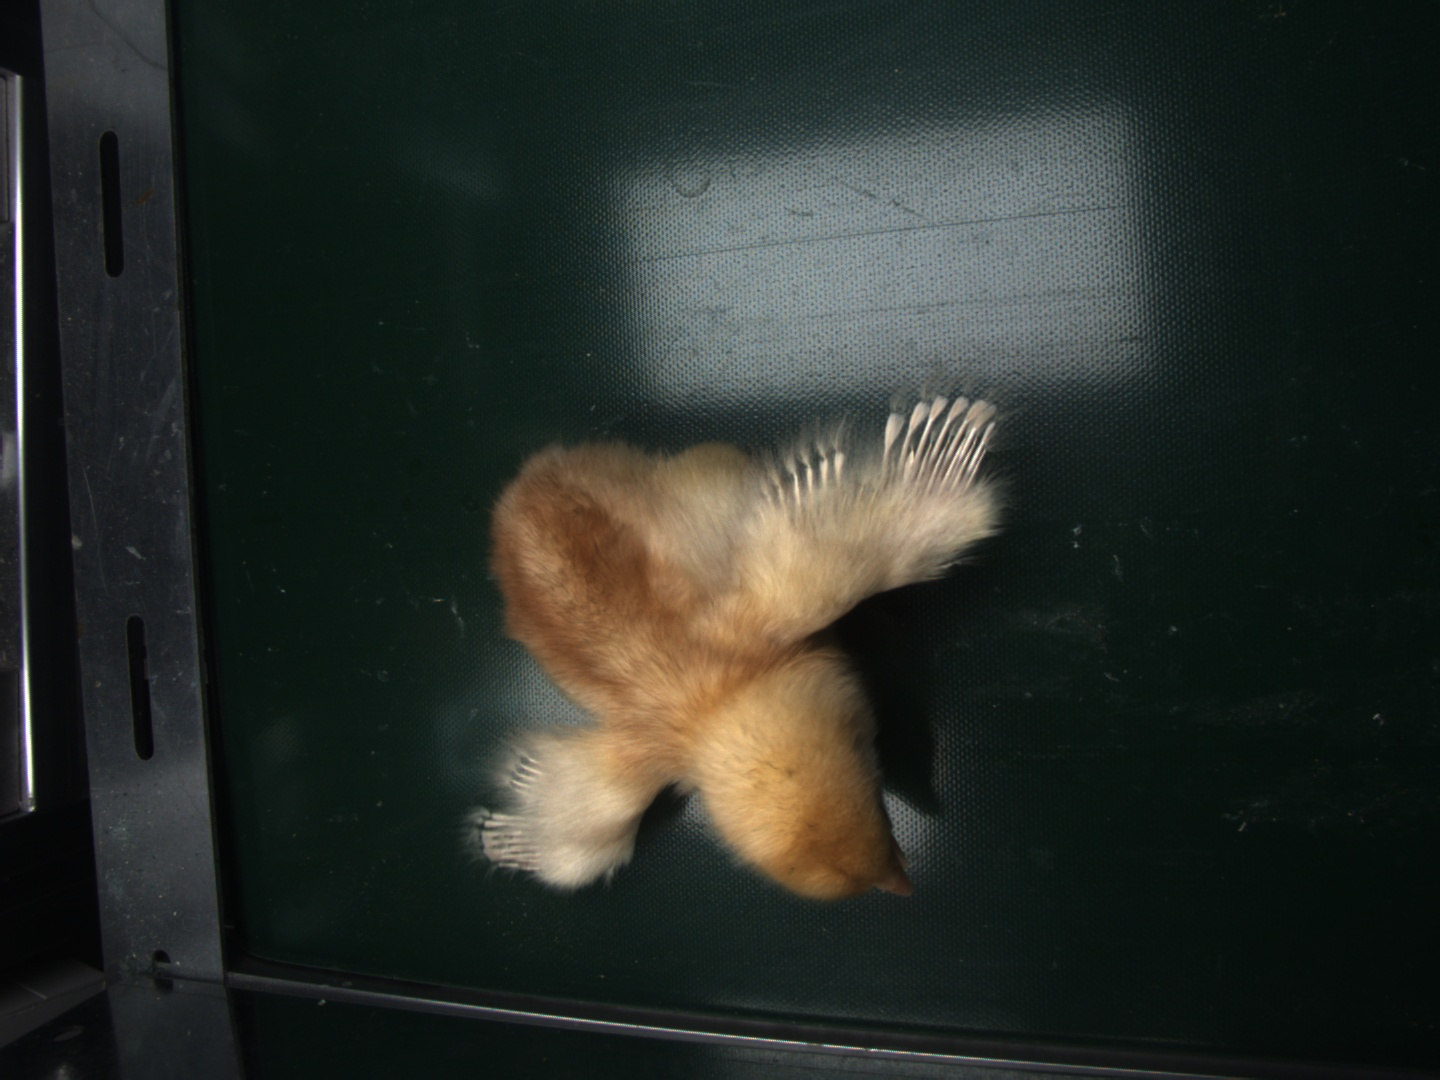female: (891, 397, 997, 487)
